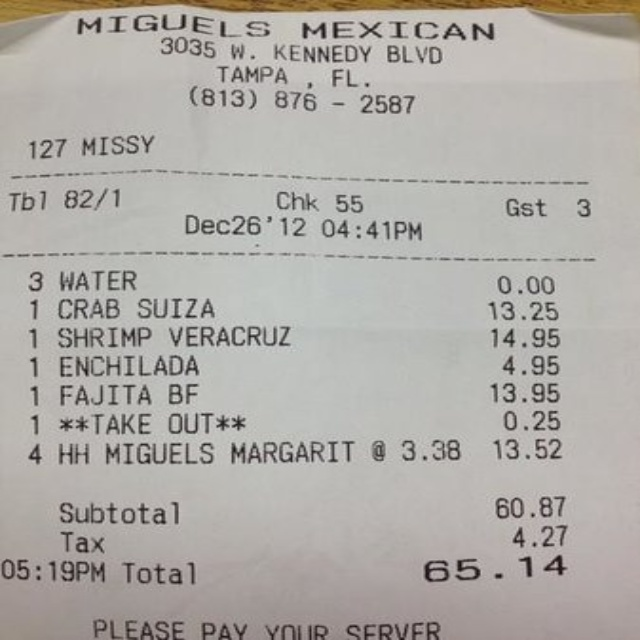invoice_table: (26, 269, 565, 466)
invoice_title: (77, 14, 495, 115)
invoice_total: (123, 553, 569, 587)
